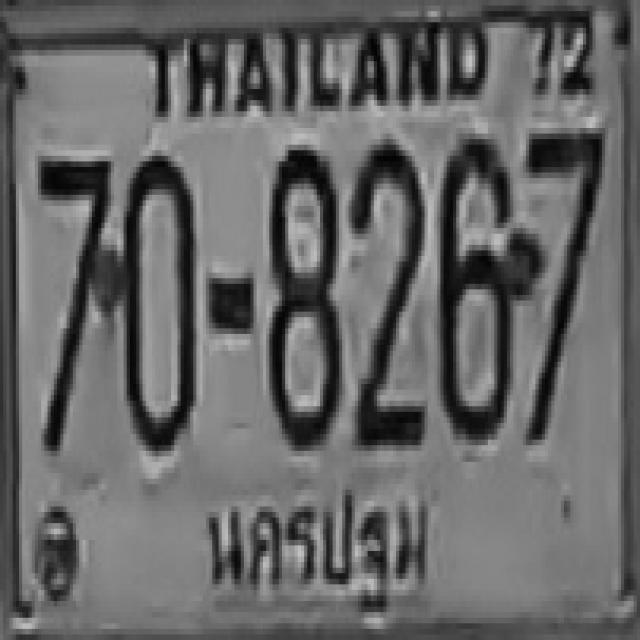0: (117, 150, 193, 445)
2: (352, 136, 421, 442)
6: (436, 131, 524, 437)
7: (523, 123, 602, 440), (35, 153, 111, 448)
8: (266, 142, 339, 442)
NakhonPathom: (197, 473, 434, 627)
